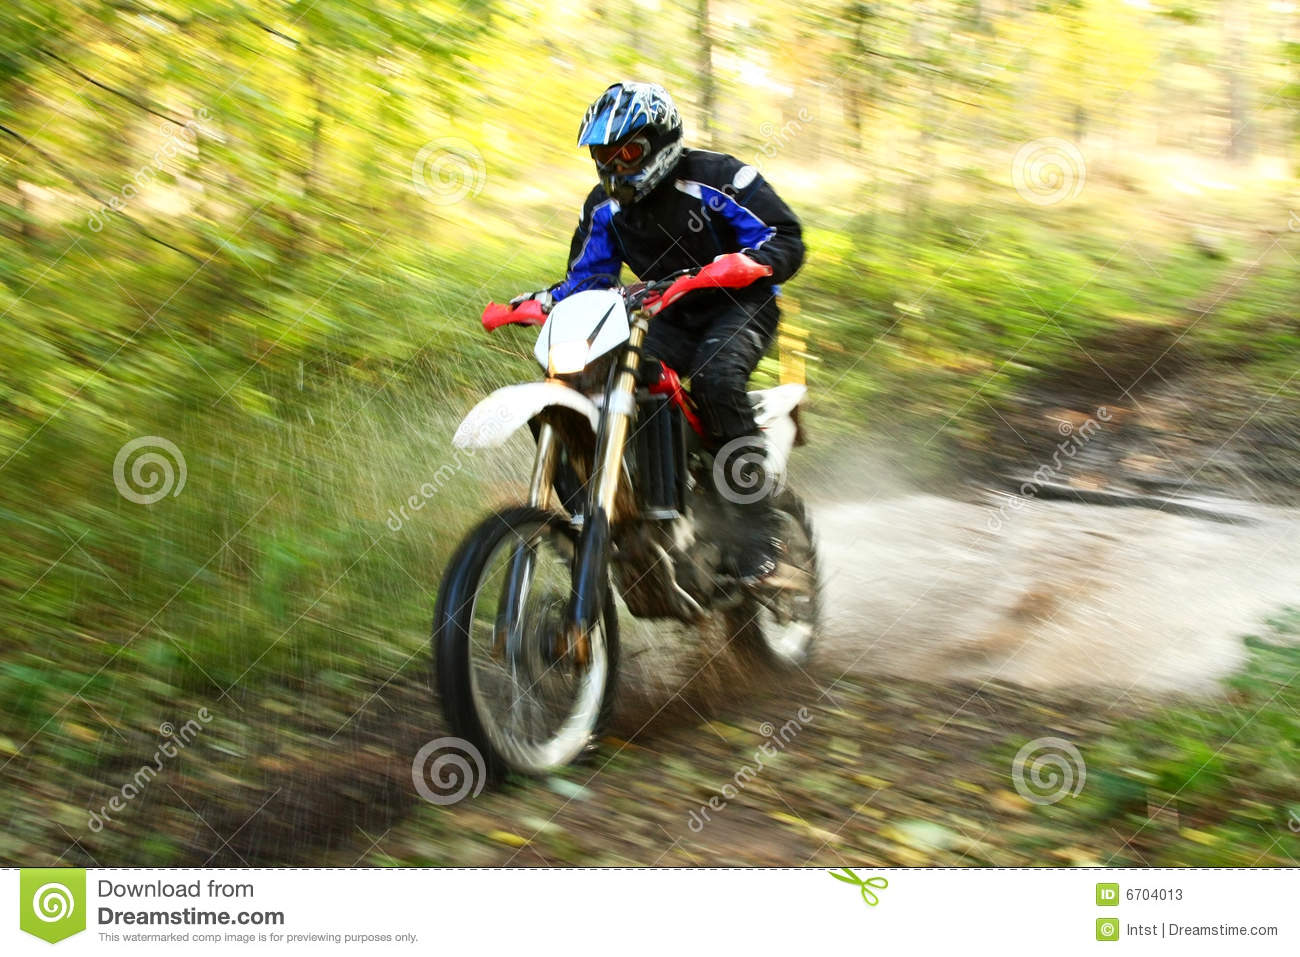helmet: (562, 79, 695, 201)
